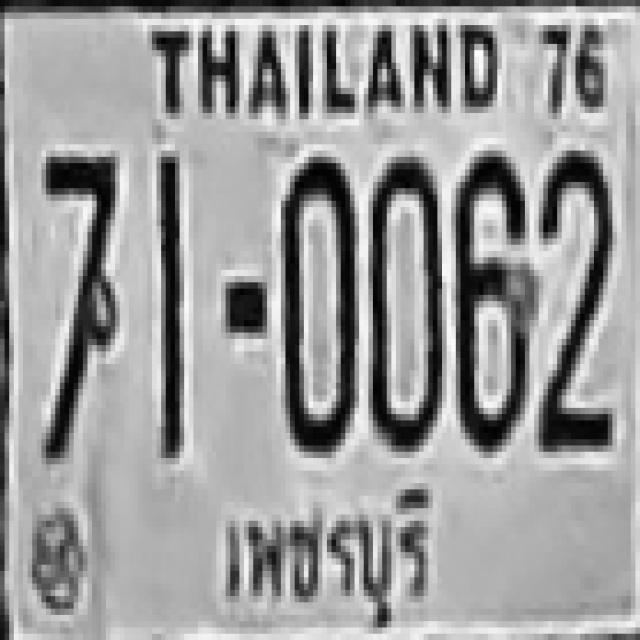0: (276, 150, 355, 446), (366, 150, 440, 446)
1: (156, 153, 180, 404)
2: (536, 147, 610, 411)
6: (451, 144, 534, 446)
7: (39, 151, 118, 458), (42, 150, 115, 377), (42, 150, 115, 352), (42, 151, 115, 326)
Phetchaburi: (206, 480, 439, 638)
